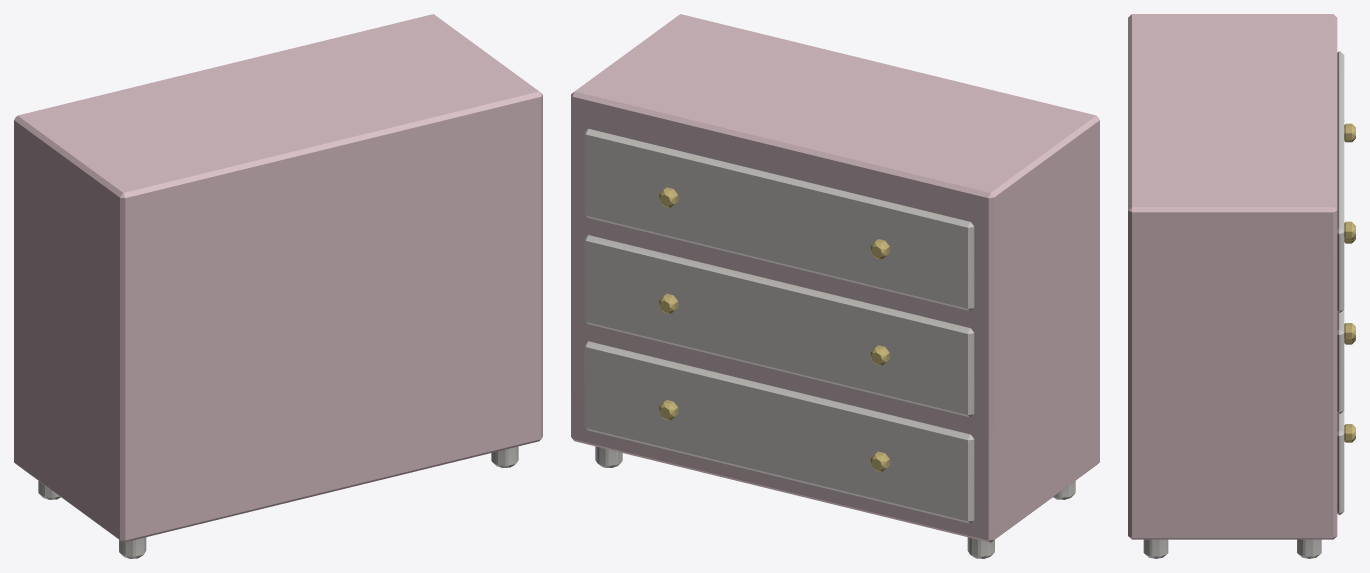
File: furn_dresser__pink.glb
3 renders of one model, left to right at view 1: azimuth 30°, elevation 25°; view 2: azimuth 150°, elevation 25°; view 3: azimuth 270°, elevation 25°, orthographic. The views are drawn at different scales.
Size of the model in its own units: 1 by 0.85 by 0.49.
